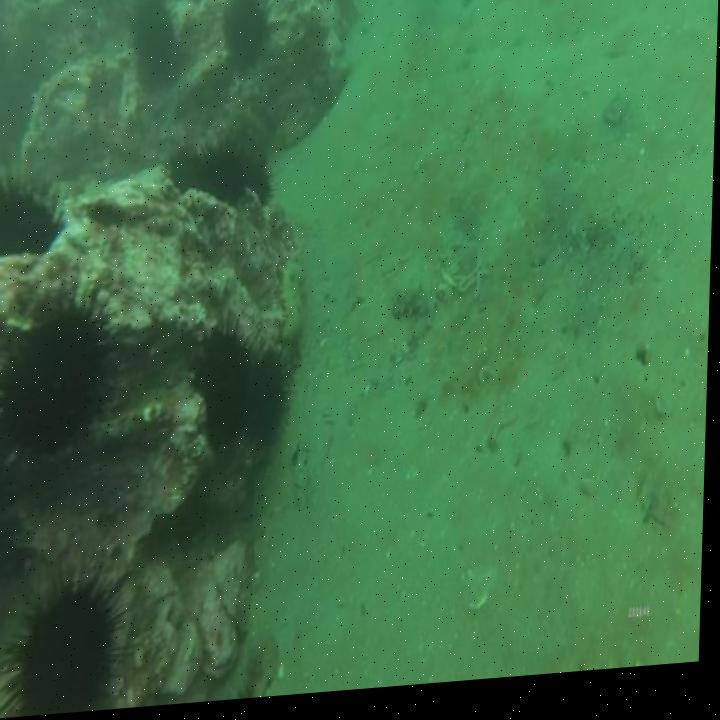echinus: (0, 278, 123, 485), (1, 564, 142, 719), (191, 306, 263, 455), (175, 137, 275, 214), (0, 164, 68, 265), (251, 336, 302, 470), (217, 0, 277, 91), (127, 0, 184, 93)
holothurian: (278, 257, 315, 351), (391, 279, 438, 334)
